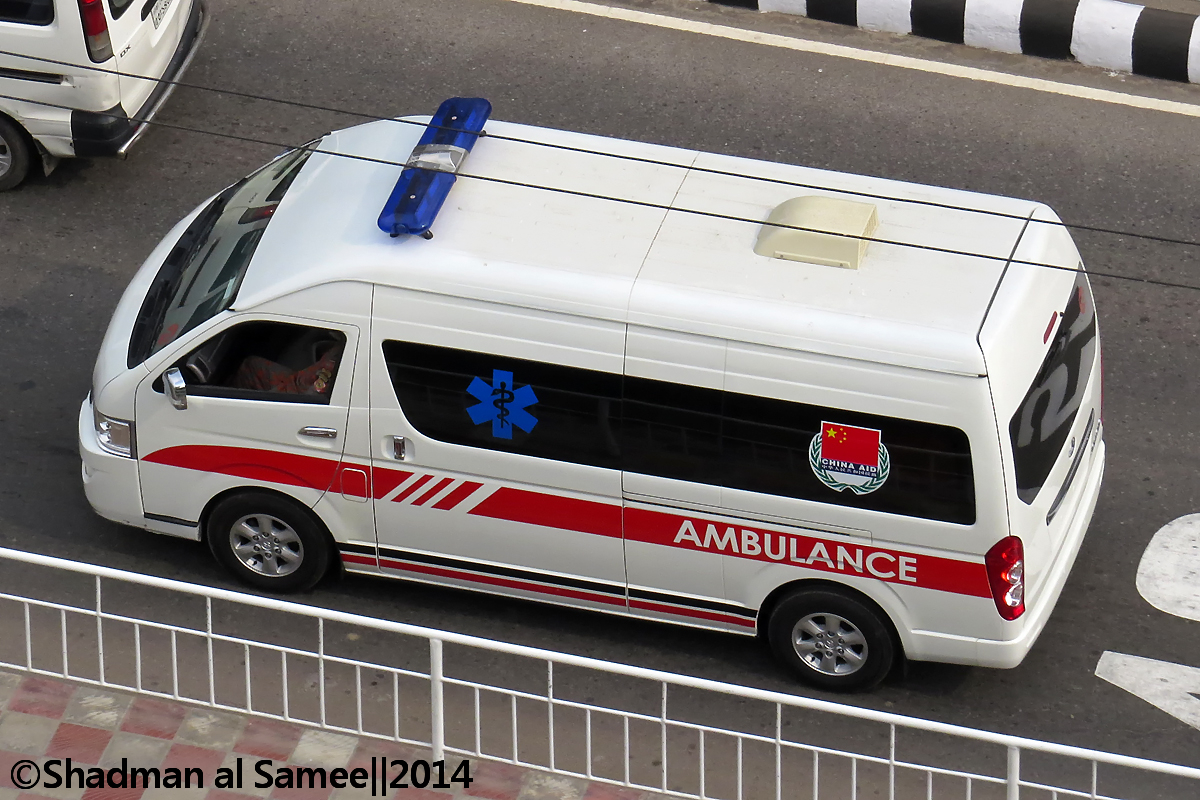Ambulance: (73, 80, 1136, 702)
private car: (0, 0, 239, 175)
